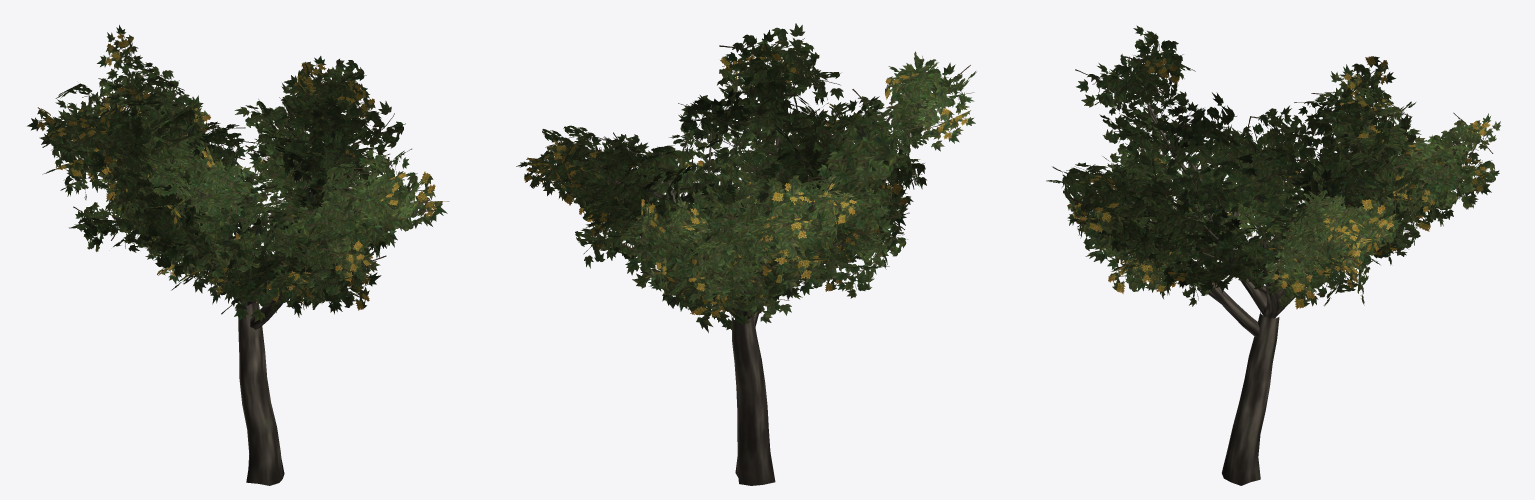
File: arvore_ipe_lod0.glb
3 renders of one model, left to right at view 1: azimuth 30°, elevation 25°; view 2: azimuth 150°, elevation 25°; view 3: azimuth 270°, elevation 25°, orthographic. The views are drawn at different scales.
Parts seen in each view (by area): view 1: arvore_ipe_lod0; view 2: arvore_ipe_lod0; view 3: arvore_ipe_lod0.
Part boxes in pixels (x1,y1,x2,y2): arvore_ipe_lod0: (27,25,449,485); arvore_ipe_lod0: (516,23,976,485); arvore_ipe_lod0: (1046,25,1500,485).
Bounding box in the file's own units: 8.17 × 9 × 10.27.
2 materials, 2 textured.
